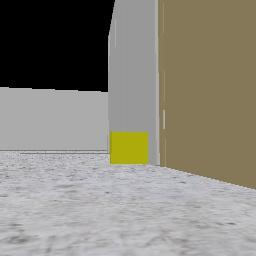galben: (110, 131, 147, 163)
